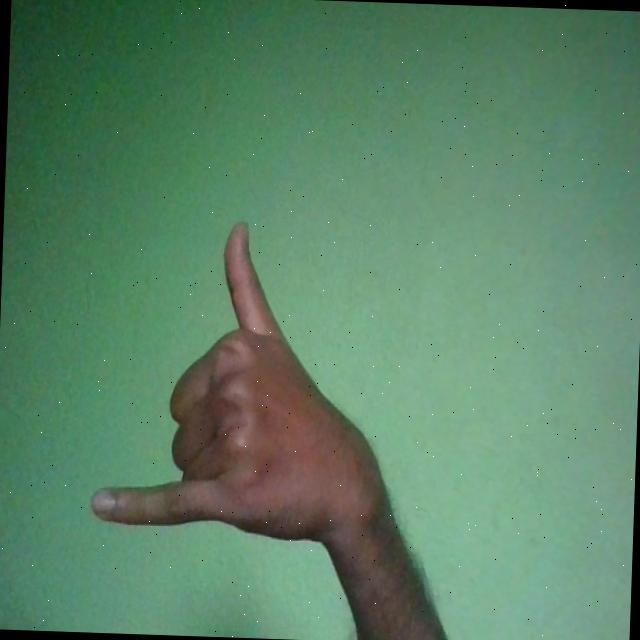Call Me: (90, 214, 399, 546)
